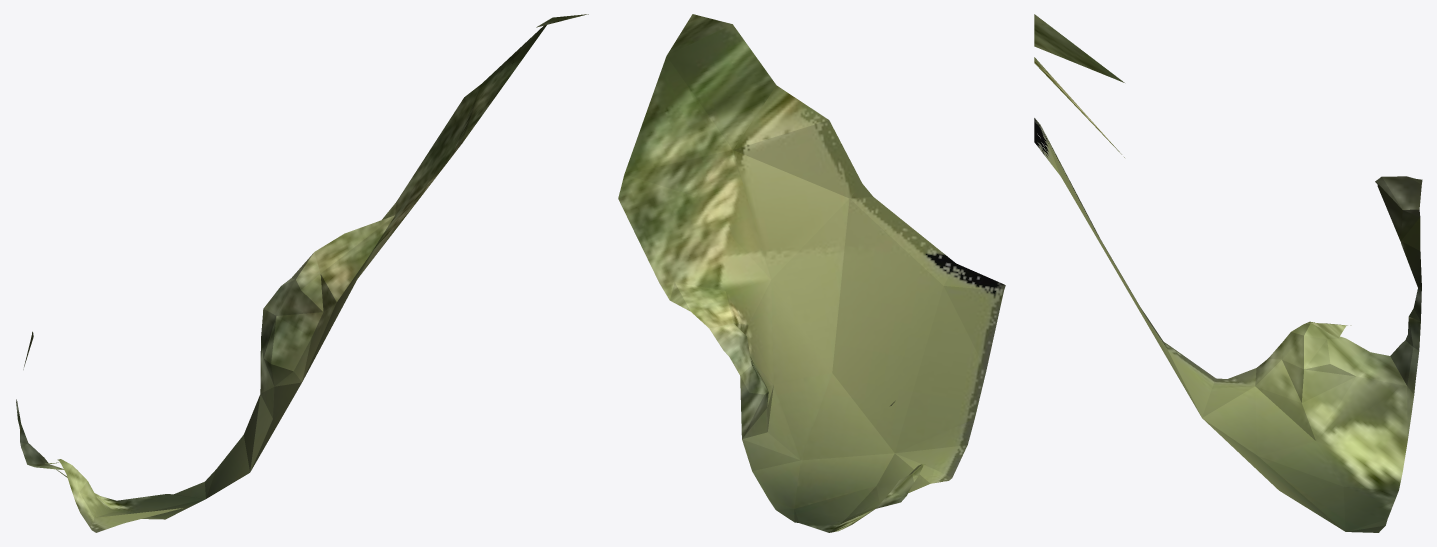
3 views of the same model, side by side, from view 1: azimuth 30°, elevation 25°; view 2: azimuth 150°, elevation 25°; view 3: azimuth 270°, elevation 25° (orthographic). The views are drawn at different scales.
Size of the model in its own units: 7.89 by 9.21 by 4.99.
1 material, 1 textured.
